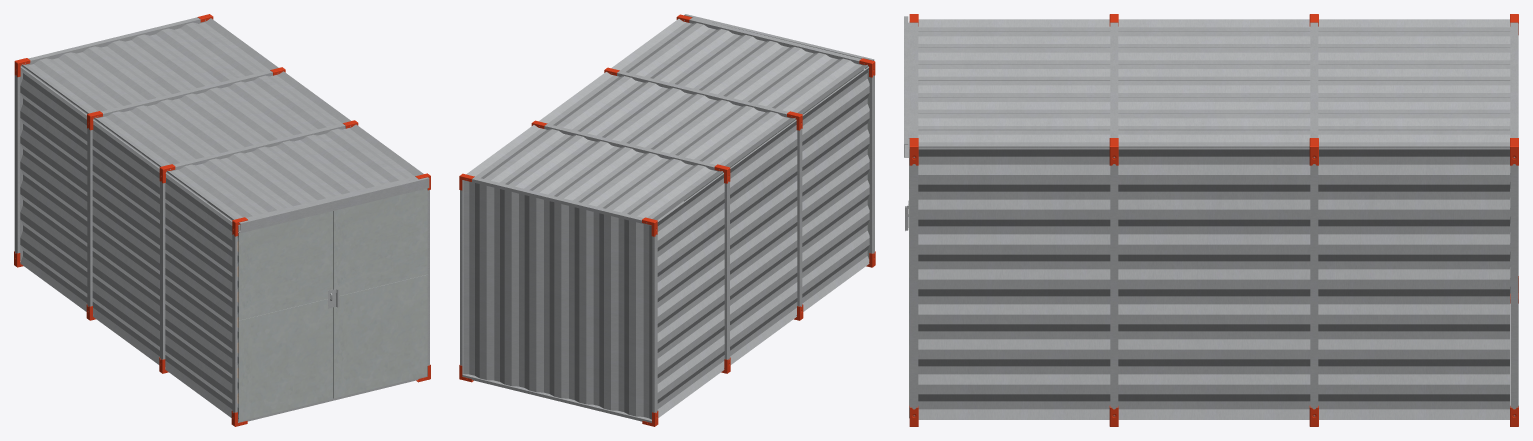
The model's file is 9M_closed.glb.
The picture shows the model from 3 angles, left to right: view 1: azimuth 30°, elevation 25°; view 2: azimuth 150°, elevation 25°; view 3: azimuth 270°, elevation 25°; orthographic projection. The views are drawn at different scales.
Visible parts, largest first — view 1: rightSide.001, ceiling.001, leftSideDoorWing, rightSideDoorWing, frontRim, gutter, corners, back; view 2: rightSide.001, ceiling.001, back, frontRim, corners, gutter; view 3: rightSide.002, ceiling.001, frontRim, corners, gutter.
Part boxes in pixels (<box>): rightSide.001: <box>20,66,238,417</box>; ceiling.001: <box>21,18,423,224</box>; leftSideDoorWing: <box>238,211,332,421</box>; rightSideDoorWing: <box>333,188,427,398</box>; frontRim: <box>14,17,429,422</box>; gutter: <box>238,177,429,233</box>; corners: <box>14,14,430,426</box>; back: <box>20,21,207,260</box>; rightSide.001: <box>657,66,869,417</box>; ceiling.001: <box>466,19,867,220</box>; back: <box>463,180,652,419</box>; frontRim: <box>460,17,874,422</box>; corners: <box>459,14,875,426</box>; gutter: <box>684,14,874,68</box>; rightSide.002: <box>918,148,1509,419</box>; ceiling.001: <box>918,19,1510,148</box>; frontRim: <box>910,22,1518,416</box>; corners: <box>909,14,1518,426</box>; gutter: <box>904,16,909,157</box>.
Size of the model in its own units: 23.23 by 23.14 by 45.73.
7 materials, 6 textured.
